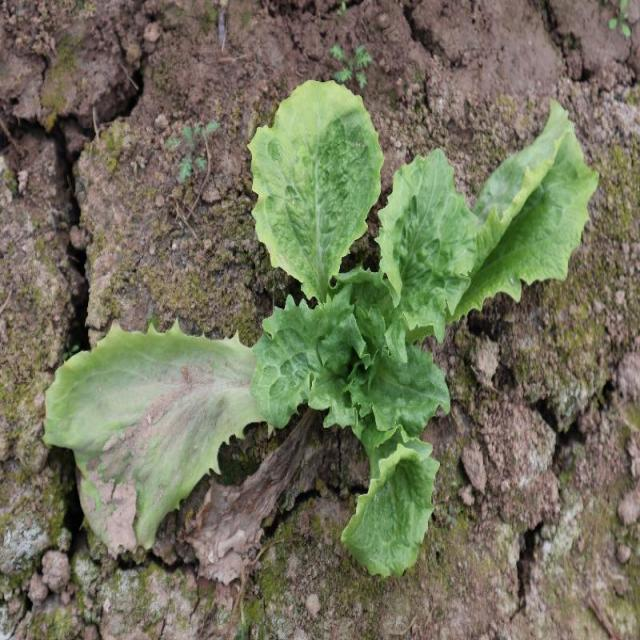crop: (42, 75, 601, 581)
